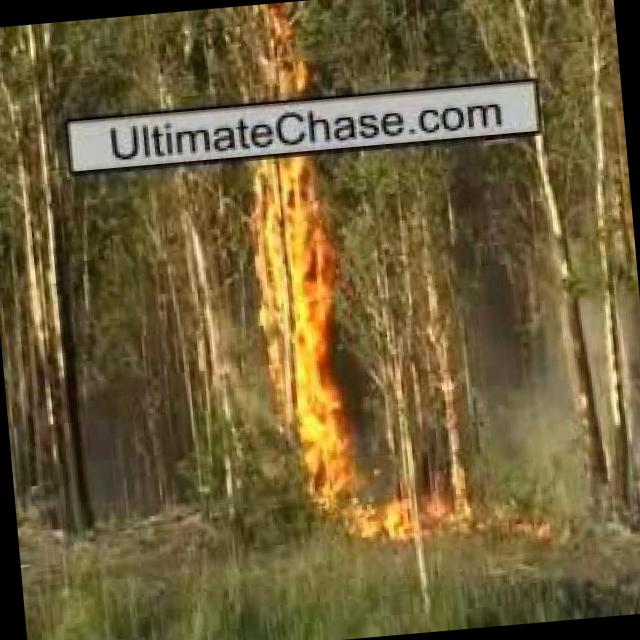Fire: (254, 160, 340, 422), (288, 419, 424, 548), (255, 15, 307, 96)
